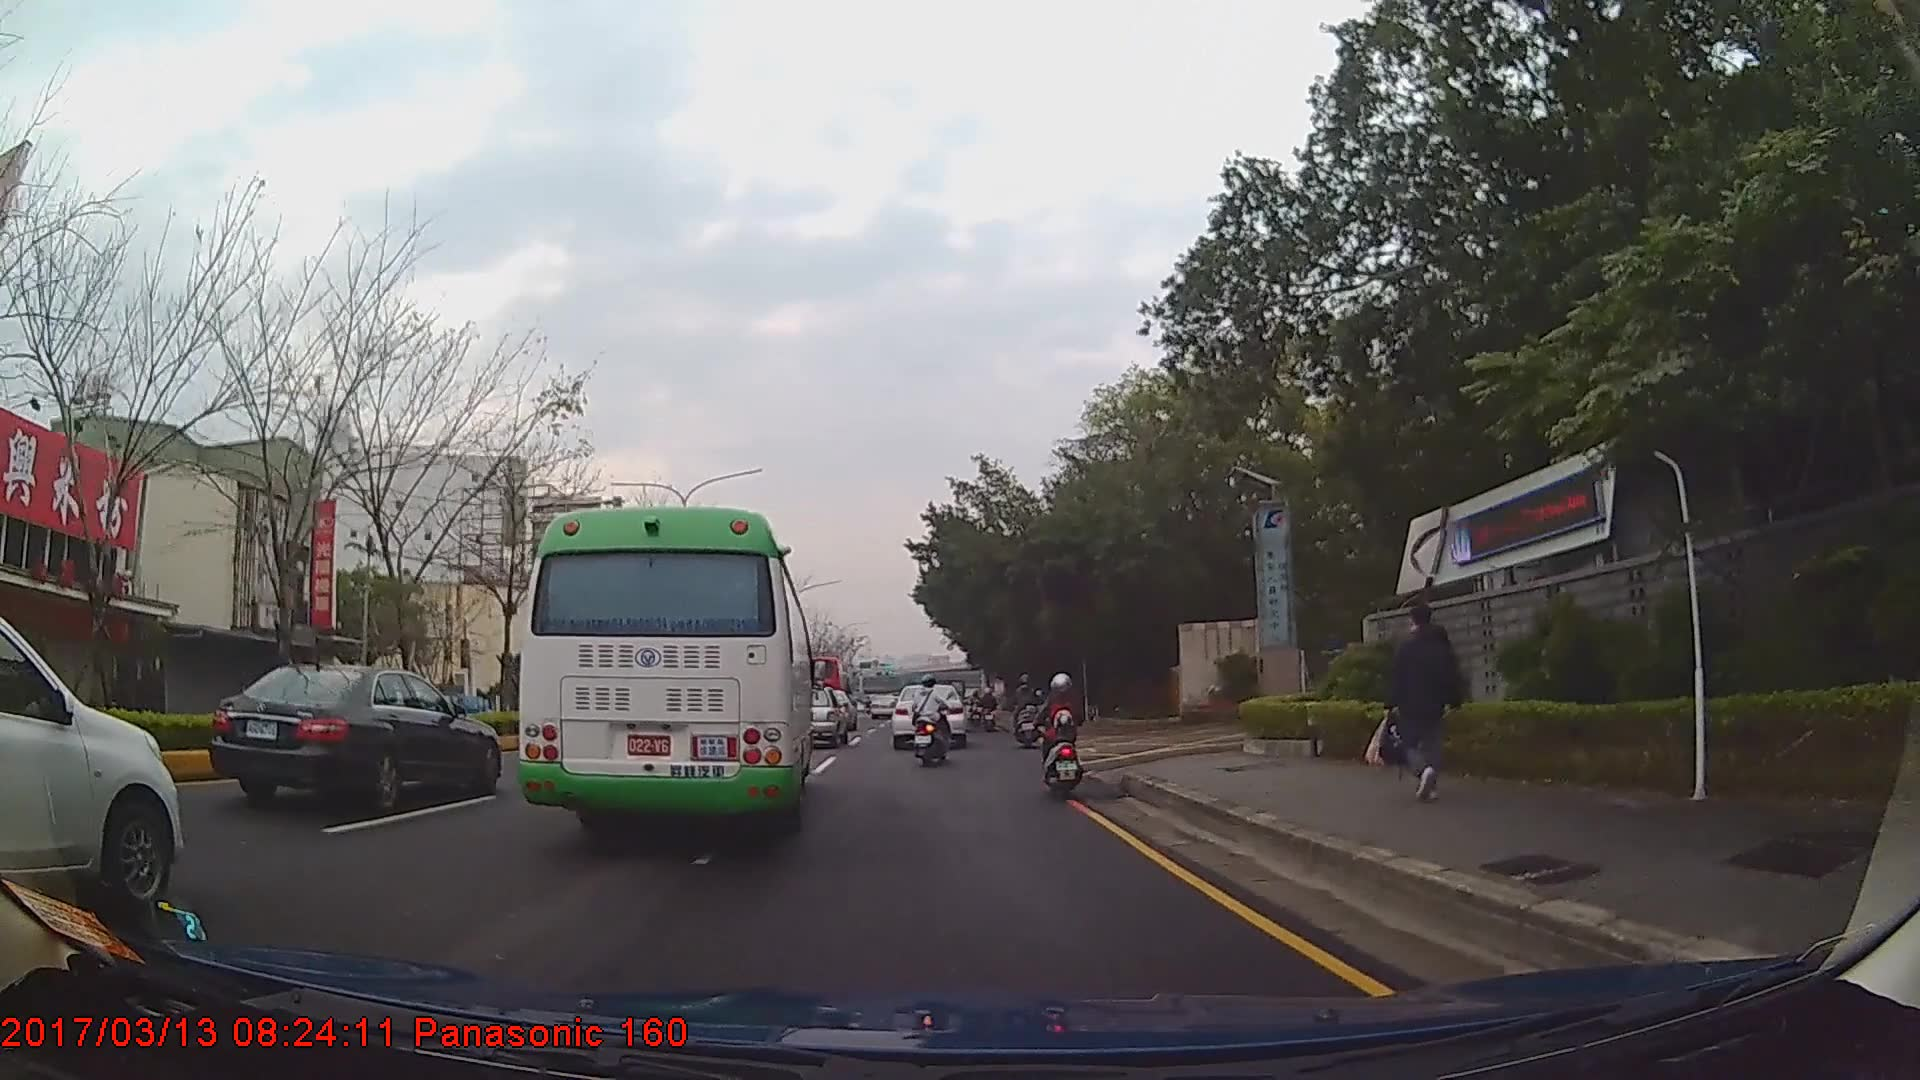pedestrian: (1367, 610, 1457, 804)
rider: (1039, 673, 1081, 798), (913, 677, 954, 766), (1009, 675, 1043, 751), (979, 690, 999, 725)
vehicle: (517, 505, 816, 845), (0, 606, 184, 911), (208, 662, 504, 812), (894, 681, 967, 749)
